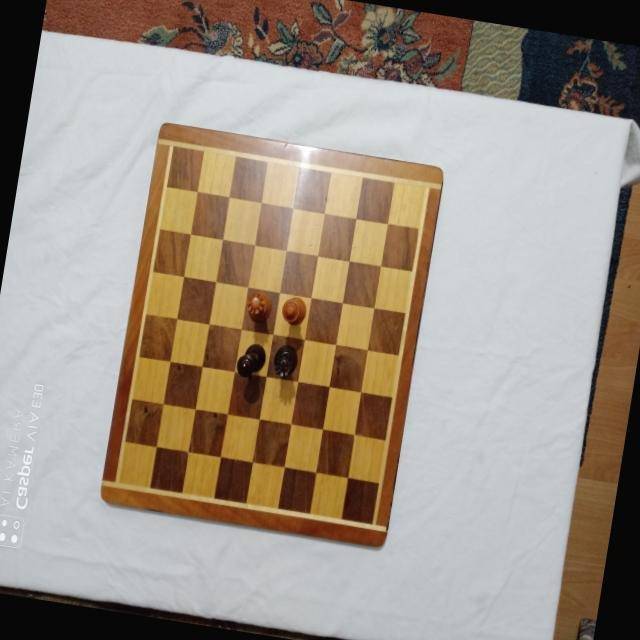black-king: (235, 339, 269, 381)
black-queen: (272, 342, 300, 381)
white-king: (279, 294, 309, 328)
white-queen: (243, 288, 274, 324)
